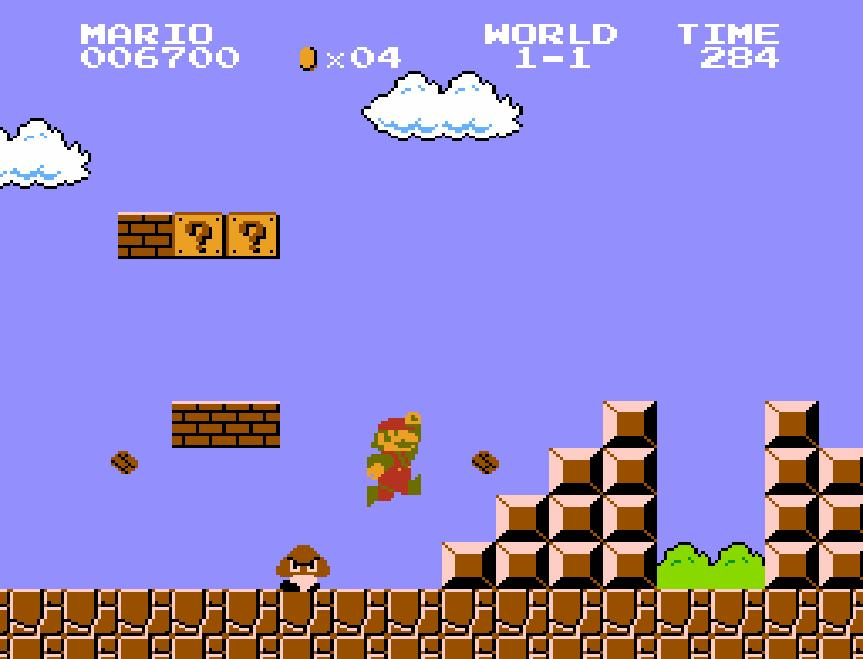big_mario: (366, 410, 424, 508)
